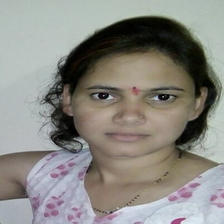no_mask: (75, 56, 191, 157)
